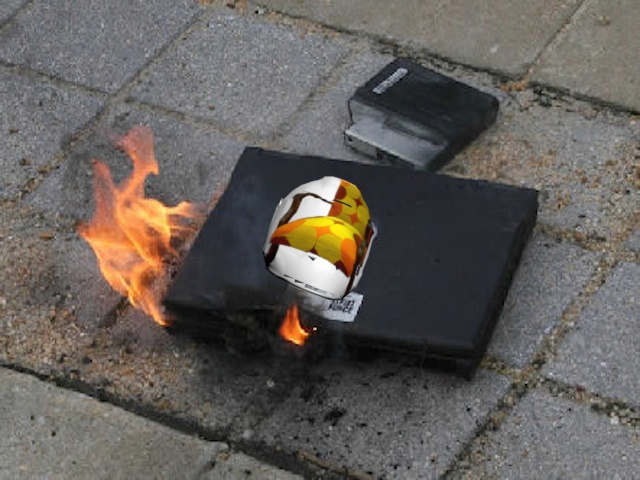bike_helmet: (257, 176, 384, 304)
